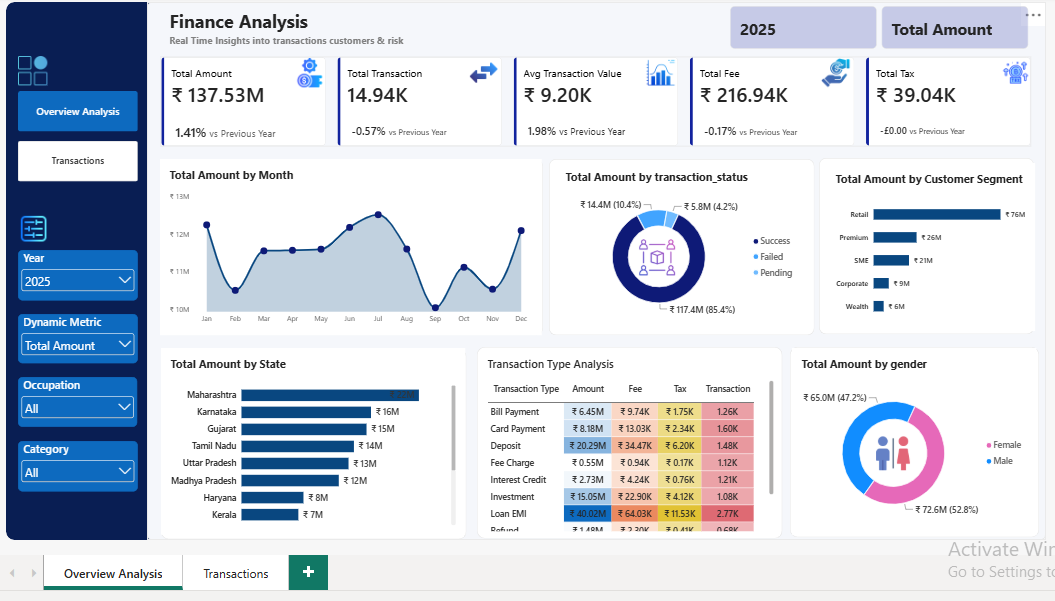

Layout of this report page (visuals, bound fields, positions):
{"tool":"powerbi","page":{"name":"Overview Analysis","canvas":[1800,950],"ordinal":0},"visuals":[{"type":"shape","box":[13.5,7.7,280.6,916],"z":0},{"type":"shape","box":[254,8,1530,916],"z":1000},{"type":"cardVisual","fields":{"Data":["finance_transactions.Dashboard Title"]},"box":[276,8,443.2,87.1],"z":2000},{"type":"cardVisual","fields":{"Data":["finance_transactions.Total Amount","finance_transactions.Total Transaction","finance_transactions.Avg Transaction Value","finance_transactions.Total Fee","finance_transactions.Total Tax"]},"box":[276,100,1488,155],"z":3000},{"type":"slicer","fields":{"Values":["calendar Table.Year"]},"box":[34,430,204,86],"z":4000},{"type":"image","box":[505.2,103.7,50,50],"z":5000},{"type":"image","box":[797.4,103.7,60,50.3],"z":6000},{"type":"image","box":[1395.5,103.7,60,50.3],"z":7000},{"type":"image","box":[1097.4,103.7,60,50.3],"z":8000},{"type":"image","box":[1702,104,60,50],"z":9000},{"type":"slicer","fields":{"Values":["Dynamic Metric.Dynamic Metric"]},"box":[34,539.6,204,84],"z":10000},{"type":"shape","box":[276,276,652,300],"z":11000},{"type":"areaChart","title":"Total Amount by Month","fields":{"Category":["calendar Table.Month"],"Y":["finance_transactions.Total Amount"]},"box":[276,276,650.3,300],"z":12000},{"type":"cardVisual","fields":{"Data":["finance_transactions.Selected Year","finance_transactions.Selected Dynamic Metric"]},"box":[1246.5,15.5,509,73.5],"z":13000},{"type":"shape","box":[938,276,452,300],"z":14000},{"type":"donutChart","fields":{"Category":["finance_transactions.transaction_status"],"Y":["finance_transactions.Total Amount"]},"box":[950,280,428,286],"z":15000},{"type":"shape","box":[1398,274,366,300],"z":16000},{"type":"barChart","fields":{"Category":["customers.customer_segment"],"Y":["finance_transactions.Total Amount"]},"box":[1410,282,356,286],"z":17000},{"type":"shape","box":[278,600,520,324],"z":18000},{"type":"barChart","fields":{"Category":["customers.state"],"Y":["finance_transactions.Total Amount"]},"box":[278,598,518,318],"z":19000},{"type":"shape","box":[816,596,520,326],"z":20000},{"type":"tableEx","title":"Transaction Type Analysis","fields":{"Values":["finance_transactions.transaction_type","finance_transactions.Total Amount","finance_transactions.Total Fee","finance_transactions.Total Tax","finance_transactions.Total Transaction"]},"box":[818,598,520,328],"z":21000},{"type":"shape","box":[1348,596,424,324],"z":22000},{"type":"donutChart","fields":{"Category":["customers.gender"],"Y":["finance_transactions.Total Amount"]},"box":[1352,598,416,318],"z":23000},{"type":"image","box":[1086,410,72,66],"z":24000},{"type":"image","box":[1488,744,72,66],"z":25000},{"type":"slicer","fields":{"Values":["customers.occupation"]},"box":[34.2,647.2,203.2,85.2],"z":26000},{"type":"slicer","fields":{"Values":["finance_transactions.merchant_category"]},"box":[34,756,204,86],"z":27000},{"type":"pageNavigator","box":[34,160,204,154],"z":28000},{"type":"image","box":[34,100,50,50],"z":29000},{"type":"image","box":[30,370,60,50],"z":30000}]}

Visuals, with their boxes on the page's 1800x950 design canvas (x1, y1, x2, y2). These are canvas units, not pixel positions in the 1055x601 screenshot, which may show the page scaled, cropped or inside an application window:
shape: (x1=14, y1=8, x2=294, y2=924)
shape: (x1=254, y1=8, x2=1784, y2=924)
cardVisual - finance_transactions.Dashboard Title: (x1=276, y1=8, x2=719, y2=95)
cardVisual - finance_transactions.Total Amount x finance_transactions.Total Transaction: (x1=276, y1=100, x2=1764, y2=255)
slicer - calendar Table.Year: (x1=34, y1=430, x2=238, y2=516)
image: (x1=505, y1=104, x2=555, y2=154)
image: (x1=797, y1=104, x2=857, y2=154)
image: (x1=1396, y1=104, x2=1456, y2=154)
image: (x1=1097, y1=104, x2=1157, y2=154)
image: (x1=1702, y1=104, x2=1762, y2=154)
slicer - Dynamic Metric.Dynamic Metric: (x1=34, y1=540, x2=238, y2=624)
shape: (x1=276, y1=276, x2=928, y2=576)
"Total Amount by Month" areaChart: (x1=276, y1=276, x2=926, y2=576)
cardVisual - finance_transactions.Selected Year x finance_transactions.Selected Dynamic Metric: (x1=1246, y1=16, x2=1756, y2=89)
shape: (x1=938, y1=276, x2=1390, y2=576)
donutChart - finance_transactions.transaction_status x finance_transactions.Total Amount: (x1=950, y1=280, x2=1378, y2=566)
shape: (x1=1398, y1=274, x2=1764, y2=574)
barChart - customers.customer_segment x finance_transactions.Total Amount: (x1=1410, y1=282, x2=1766, y2=568)
shape: (x1=278, y1=600, x2=798, y2=924)
barChart - customers.state x finance_transactions.Total Amount: (x1=278, y1=598, x2=796, y2=916)
shape: (x1=816, y1=596, x2=1336, y2=922)
"Transaction Type Analysis" tableEx: (x1=818, y1=598, x2=1338, y2=926)
shape: (x1=1348, y1=596, x2=1772, y2=920)
donutChart - customers.gender x finance_transactions.Total Amount: (x1=1352, y1=598, x2=1768, y2=916)
image: (x1=1086, y1=410, x2=1158, y2=476)
image: (x1=1488, y1=744, x2=1560, y2=810)
slicer - customers.occupation: (x1=34, y1=647, x2=237, y2=732)
slicer - finance_transactions.merchant_category: (x1=34, y1=756, x2=238, y2=842)
pageNavigator: (x1=34, y1=160, x2=238, y2=314)
image: (x1=34, y1=100, x2=84, y2=150)
image: (x1=30, y1=370, x2=90, y2=420)
